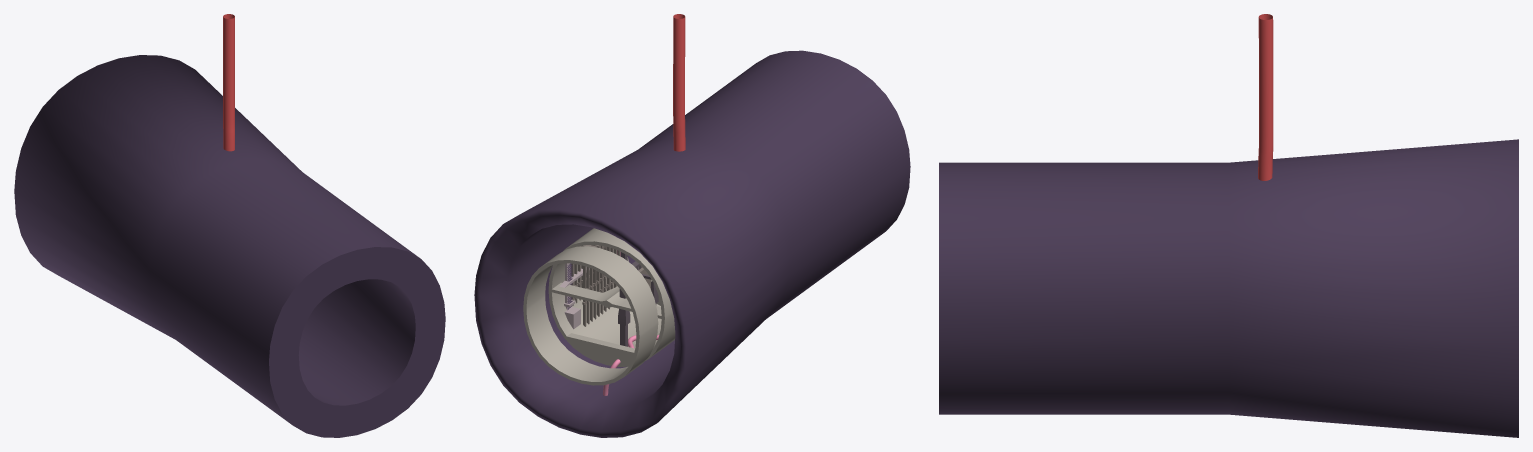
The model's file is tunnel.fbx.
3 views of the same model, side by side, from view 1: azimuth 30°, elevation 25°; view 2: azimuth 150°, elevation 25°; view 3: azimuth 270°, elevation 25° (orthographic). The views are drawn at different scales.
Parts seen in each view (by area): view 1: Cube, BézierCurve.001; view 2: Cube, BézierCurve.001, Cube.009, Cube.007, Cube.006; view 3: Cube, BézierCurve.001.
Boxes of the visible parts, box(x1,y1,x2,y2) form: Cube: box(14, 55, 445, 437); BézierCurve.001: box(223, 14, 234, 151); Cube: box(474, 50, 910, 437); BézierCurve.001: box(673, 14, 685, 151); Cube.009: box(582, 247, 620, 326); Cube.007: box(559, 251, 610, 329); Cube.006: box(618, 252, 651, 346); Cube: box(939, 139, 1518, 437); BézierCurve.001: box(1258, 14, 1273, 180).
Bounding box in the file's own units: 39614 × 60731 × 78053.
